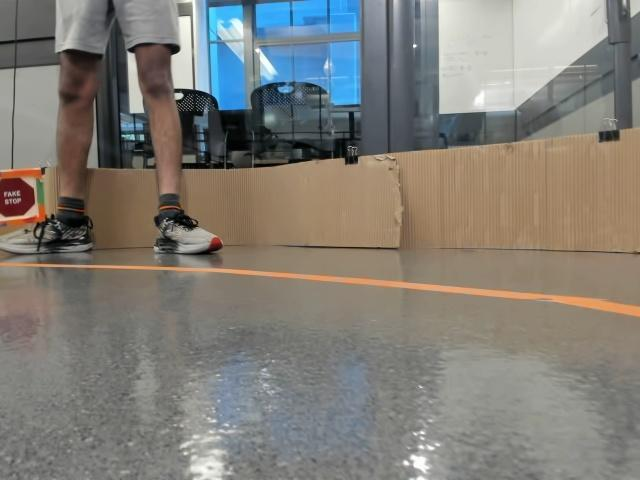Fake Stop: (0, 176, 34, 216)
